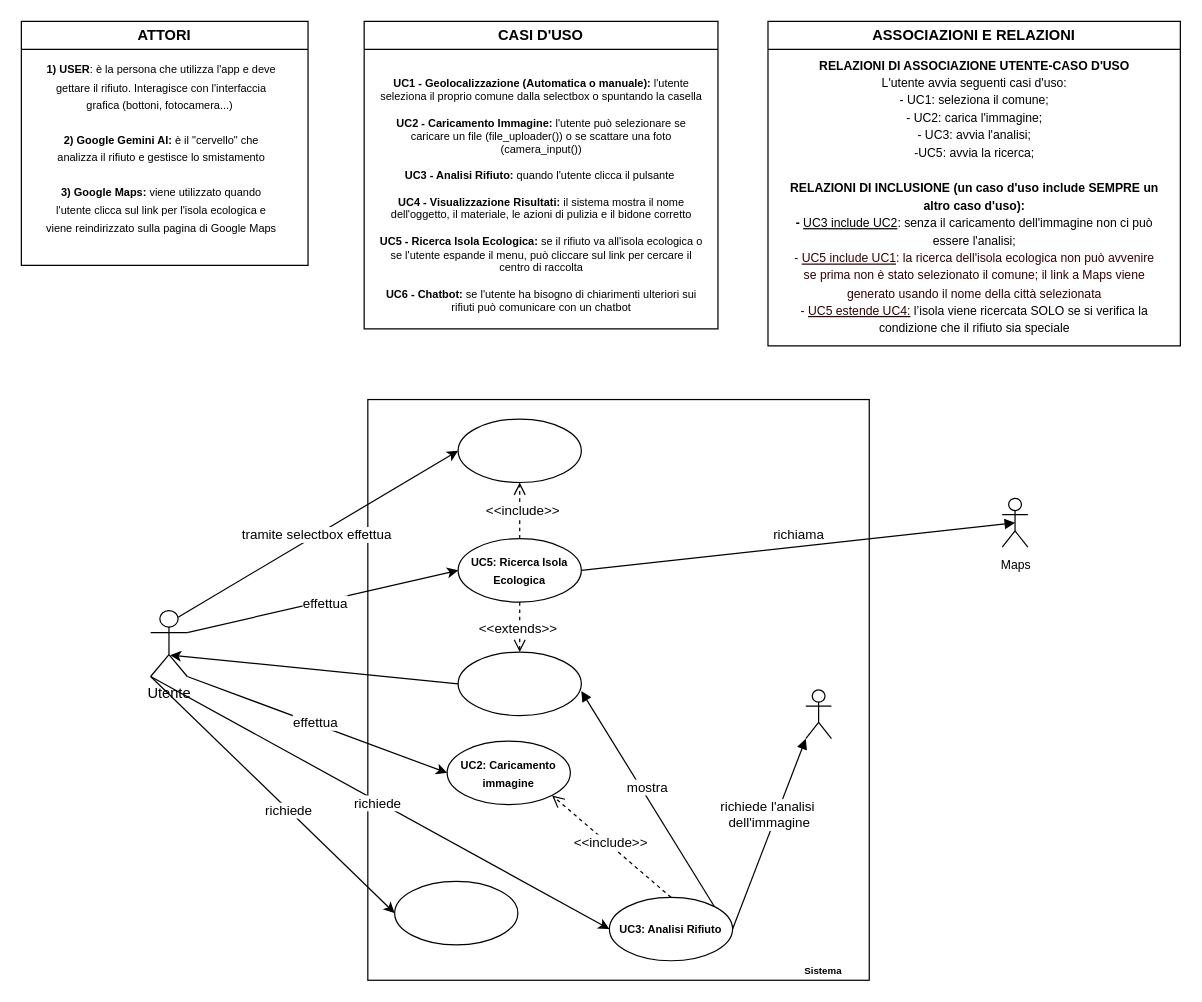
Image size: 1202x1002. Some labels were removed from this diagram. The centre of each missing label's shape, as x and y in pixels:
AI: [818,714]
UC1: Geolocalizzazione: [519,450]
UC4: Visualizzazione Risultati: [519,683]
UC6: Chatbot: [455,912]
